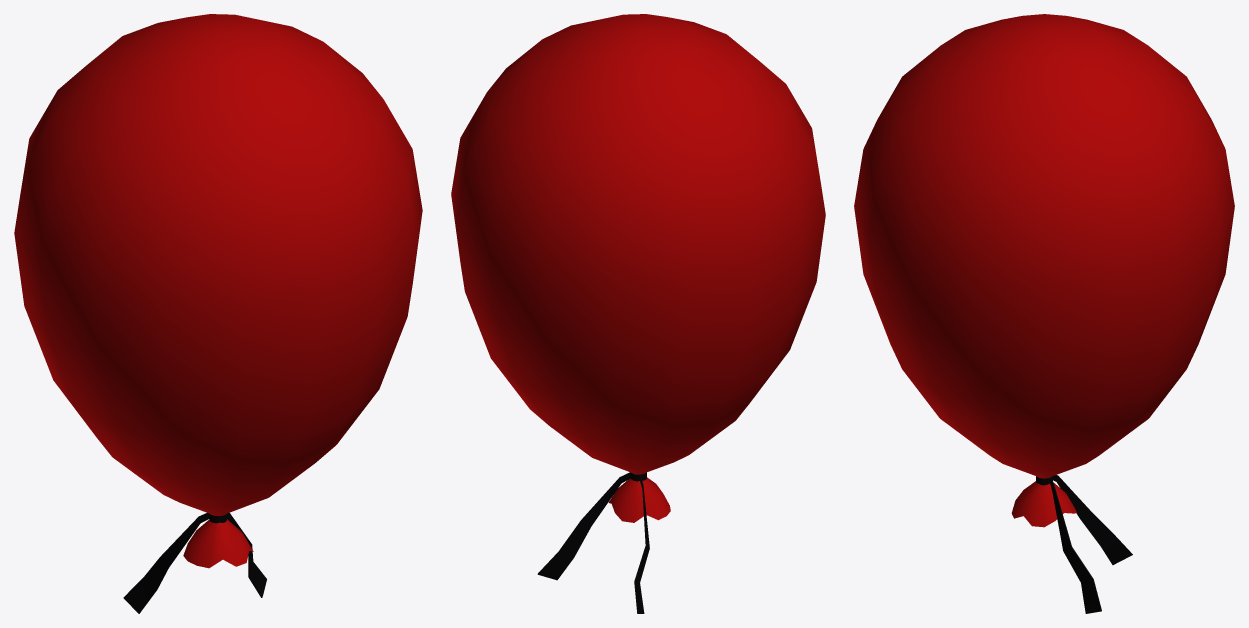
Rendered from balloon.fbx.
3 views of the same model, side by side, from view 1: azimuth 30°, elevation 25°; view 2: azimuth 150°, elevation 25°; view 3: azimuth 270°, elevation 25° (orthographic). The views are drawn at different scales.
Parts seen in each view (by area): view 1: balloon; view 2: balloon; view 3: balloon.
Part boxes in pixels (x1=…): balloon: x1=14, y1=14, x2=422, y2=613; balloon: x1=451, y1=14, x2=825, y2=613; balloon: x1=854, y1=14, x2=1234, y2=613.
Bounding box in the file's own units: 127 × 204 × 127.
